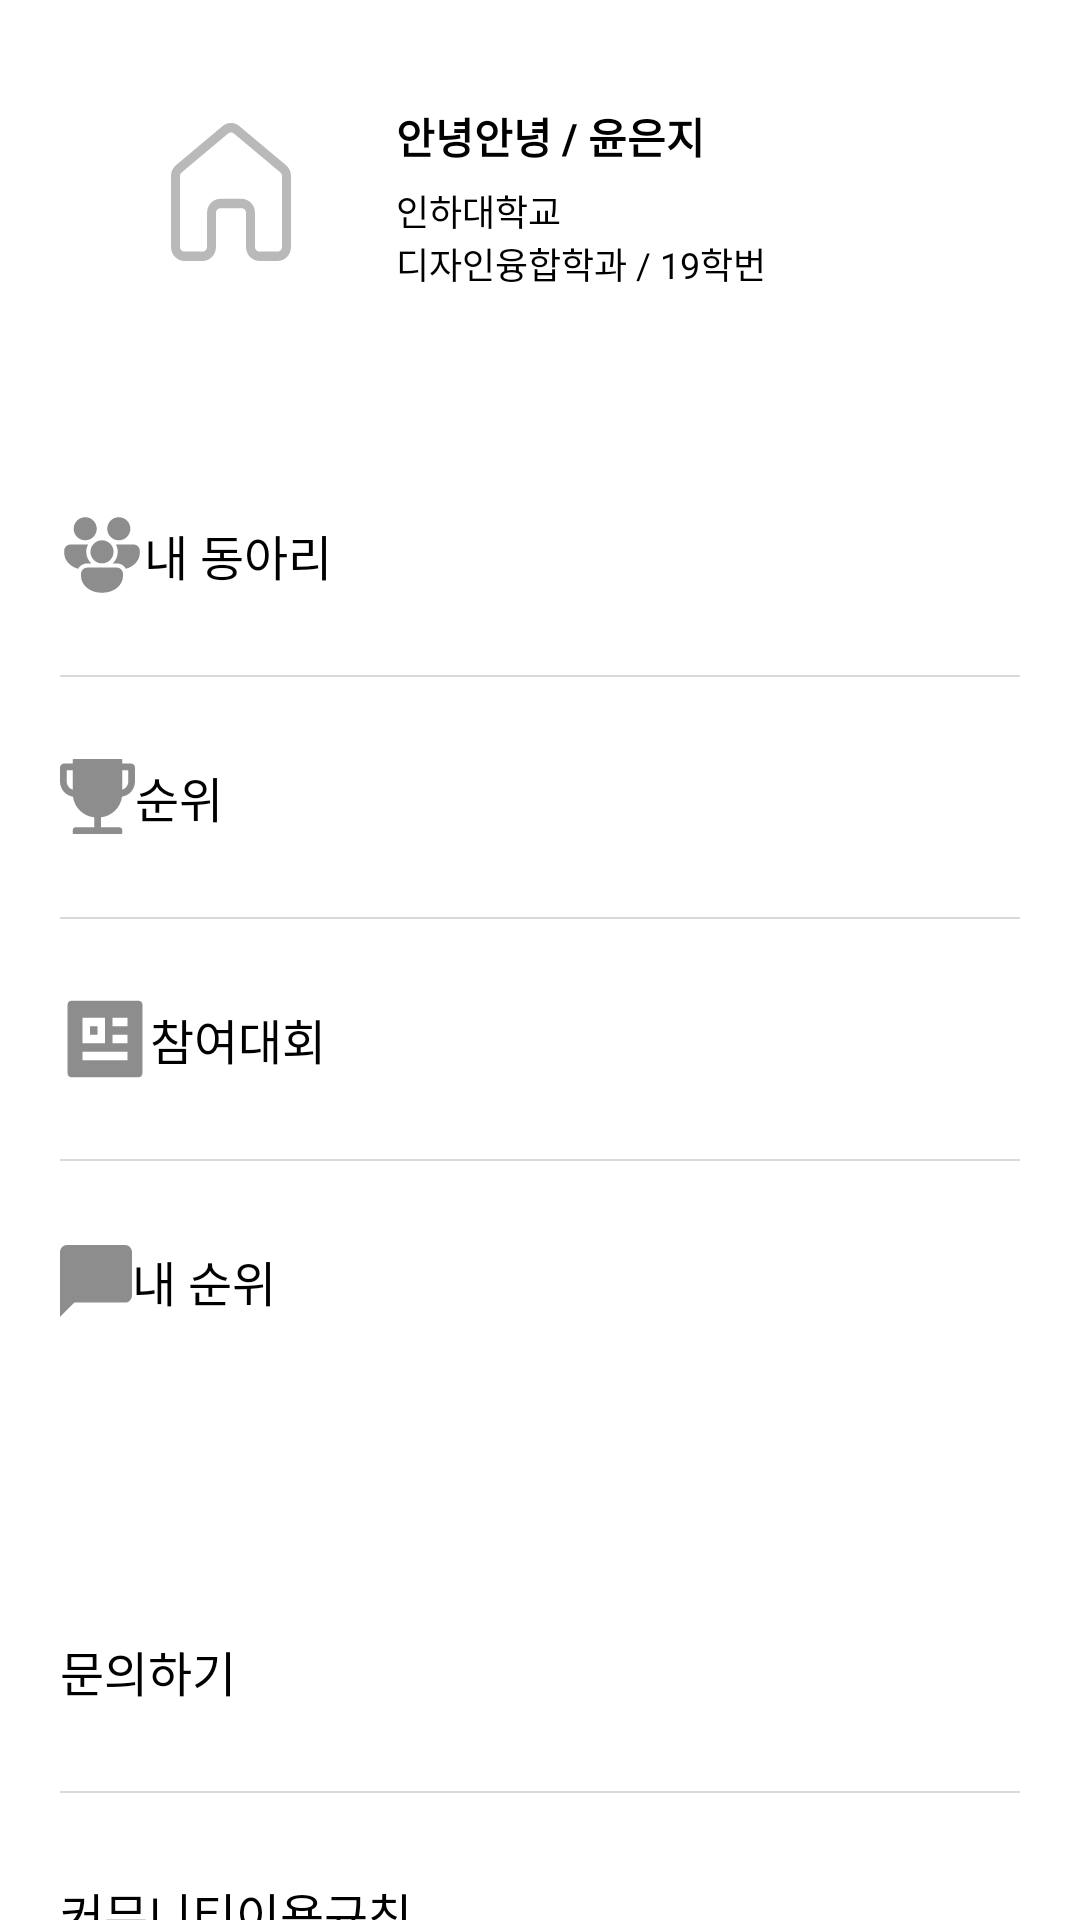

Where icons sit on this 1080w x 1920h app screen, as (x1, y1, x2, y2):
home: (171, 123, 291, 261)
